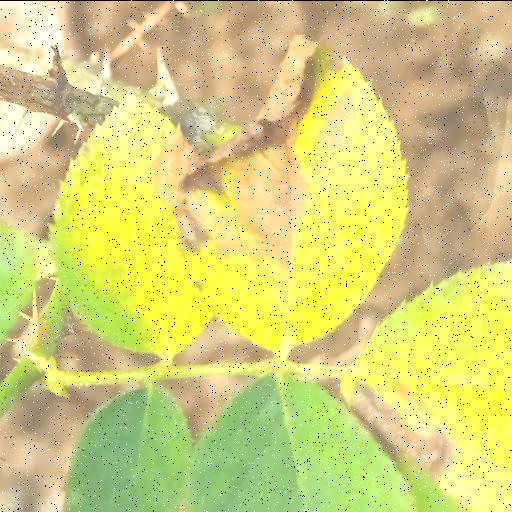thrip: (181, 50, 407, 352), (342, 261, 512, 512), (50, 95, 212, 358)
